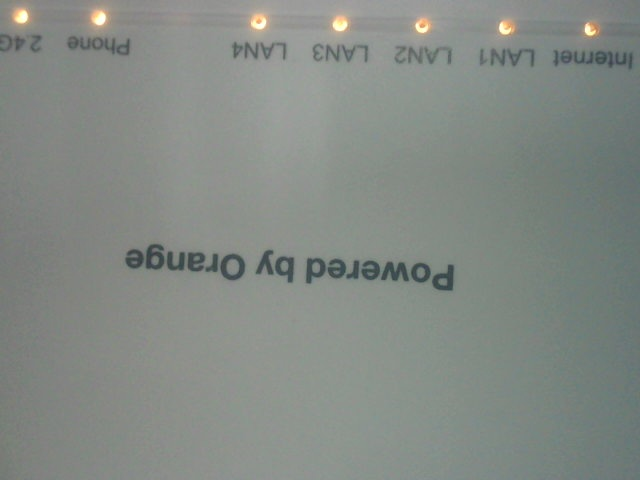AS_PowerByOrange: (112, 225, 461, 299)
